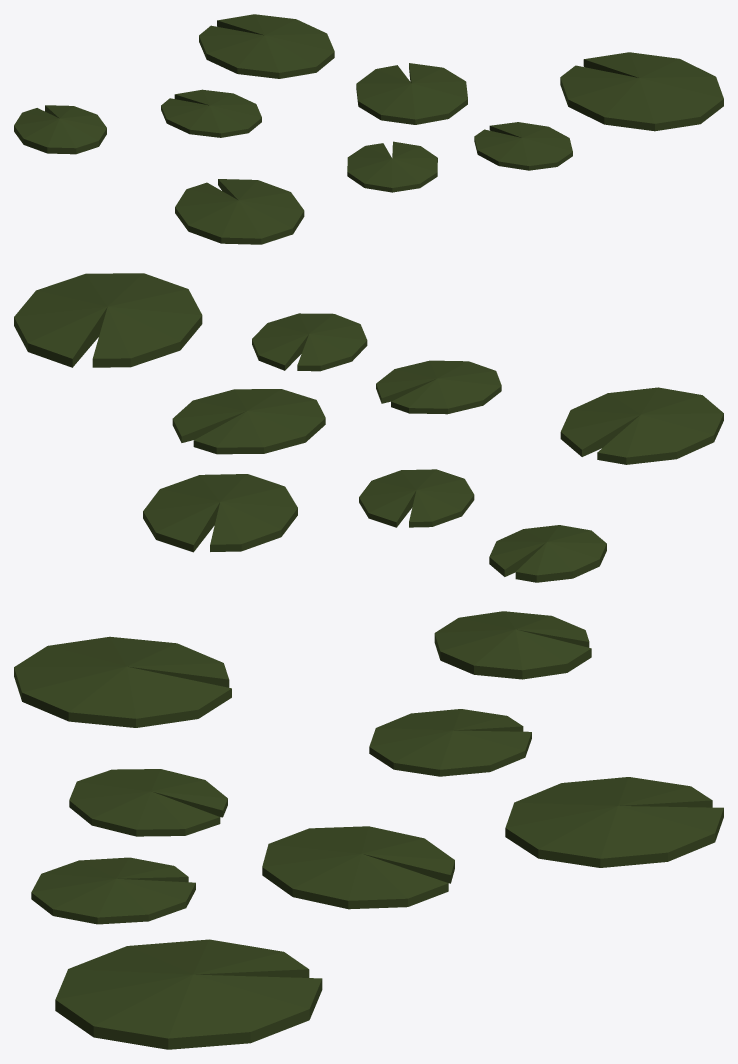
The model's file is Water Lily Multi_1.fbx.
3 views of the same model, one above another, from view 1: azimuth 30°, elevation 25°; view 2: azimuth 150°, elevation 25°; view 3: azimuth 270°, elevation 25° (orthographic). The views are drawn at different scales.
Visible parts, largest first — view 1: Water Lily Multi_1; view 2: Water Lily Multi_1; view 3: Water Lily Multi_1.
Boxes of the visible parts, x1,y1,x2,y2 form: Water Lily Multi_1: (14, 14, 723, 244); Water Lily Multi_1: (14, 273, 723, 582); Water Lily Multi_1: (14, 611, 723, 1049).
Size of the model in its own units: 1.32 by 0.0357 by 0.9199.
